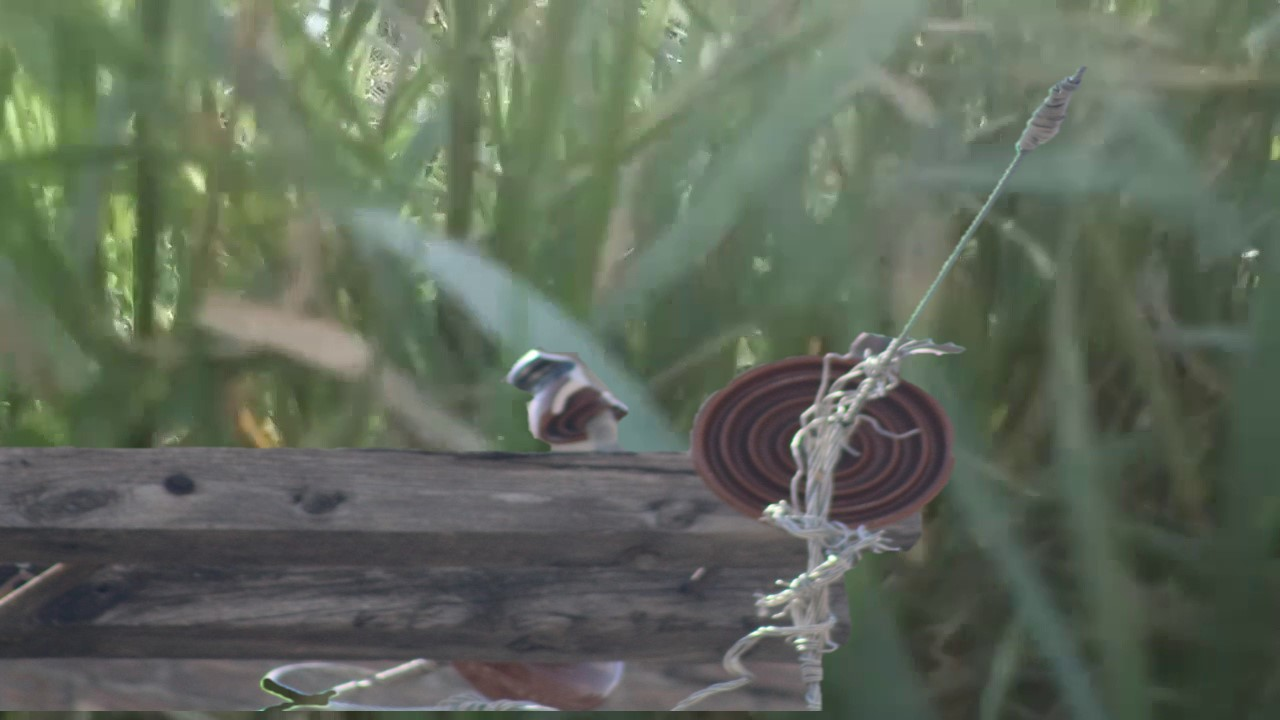defect_pin: (503, 345, 629, 460)
insulator_disc: (687, 353, 964, 542)
